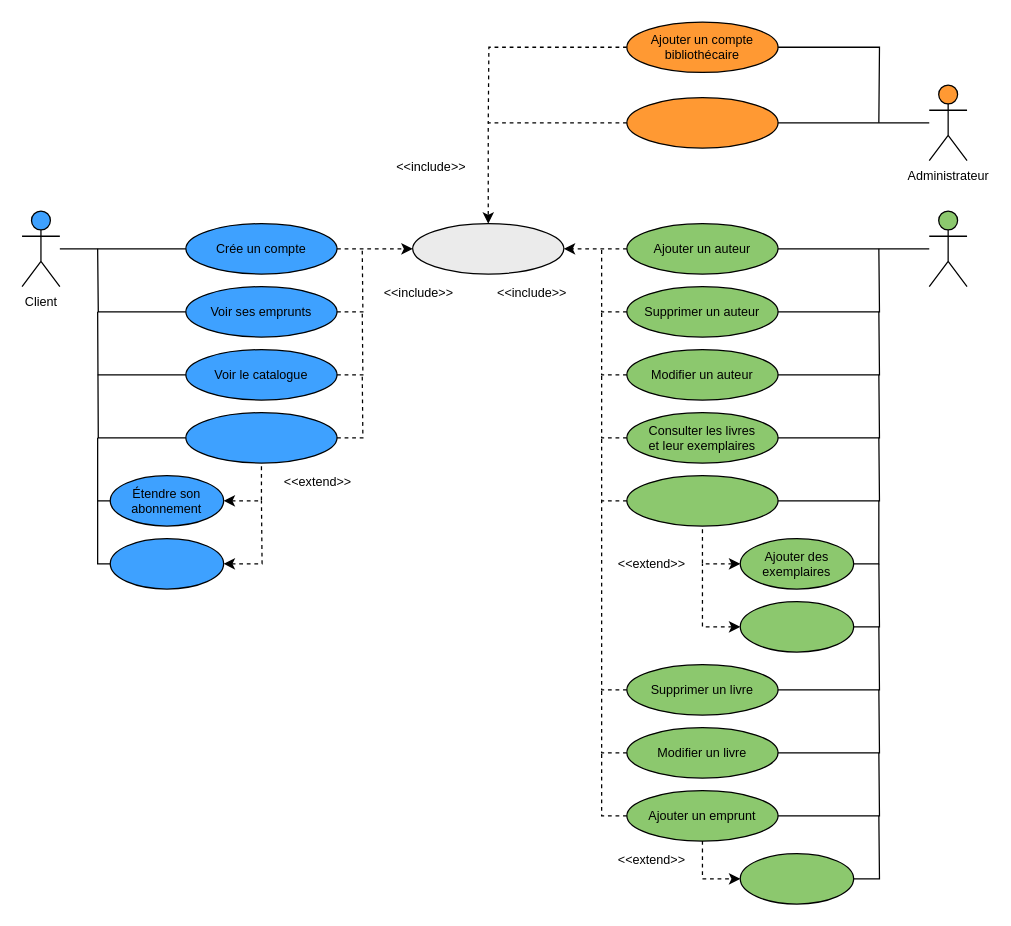
Some shapes in this 1011 by 926 pixel diagram are drawn without their labels. Each missing label, with the centre of its shape:
"Ajouter un livre" goes at point (702, 500).
"Bibliothécaire" goes at point (947, 248).
"Confirmé le retour d'un emprunt" goes at point (796, 878).
"Résilier son abonnement" goes at point (166, 563).
"S'abonner" goes at point (261, 437).
"S'authentifier" goes at point (487, 248).
"Supprimer des exemplaires" goes at point (796, 626).
"Supprimer un compte bibliothécaire" goes at point (702, 122).
